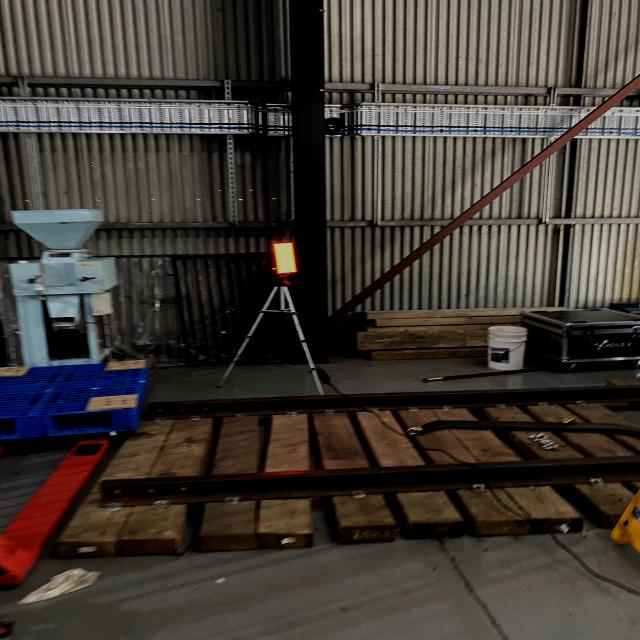matrix: (268, 238, 304, 280)
